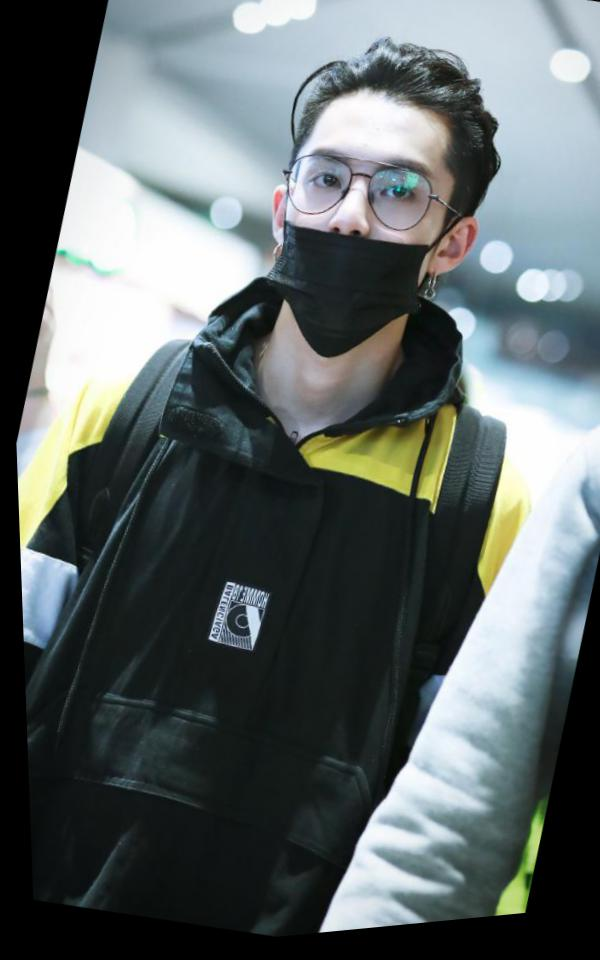WRONG: (253, 106, 468, 381)
